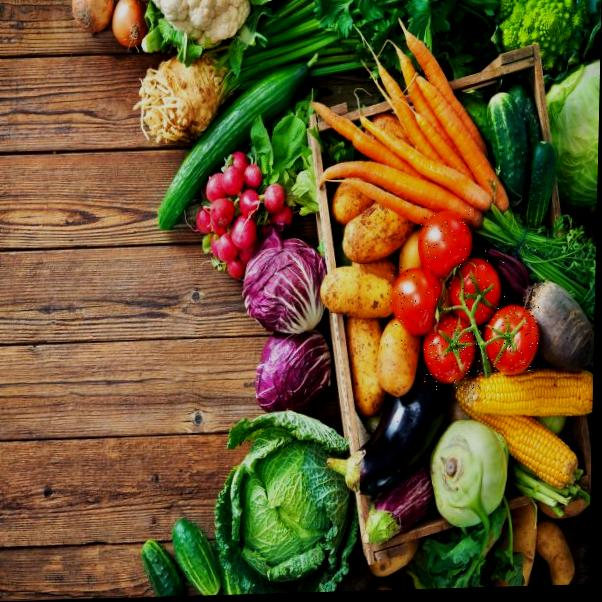Tomato: (386, 257, 451, 342), (421, 307, 484, 391), (417, 207, 473, 287), (482, 302, 540, 375), (453, 250, 506, 325)
